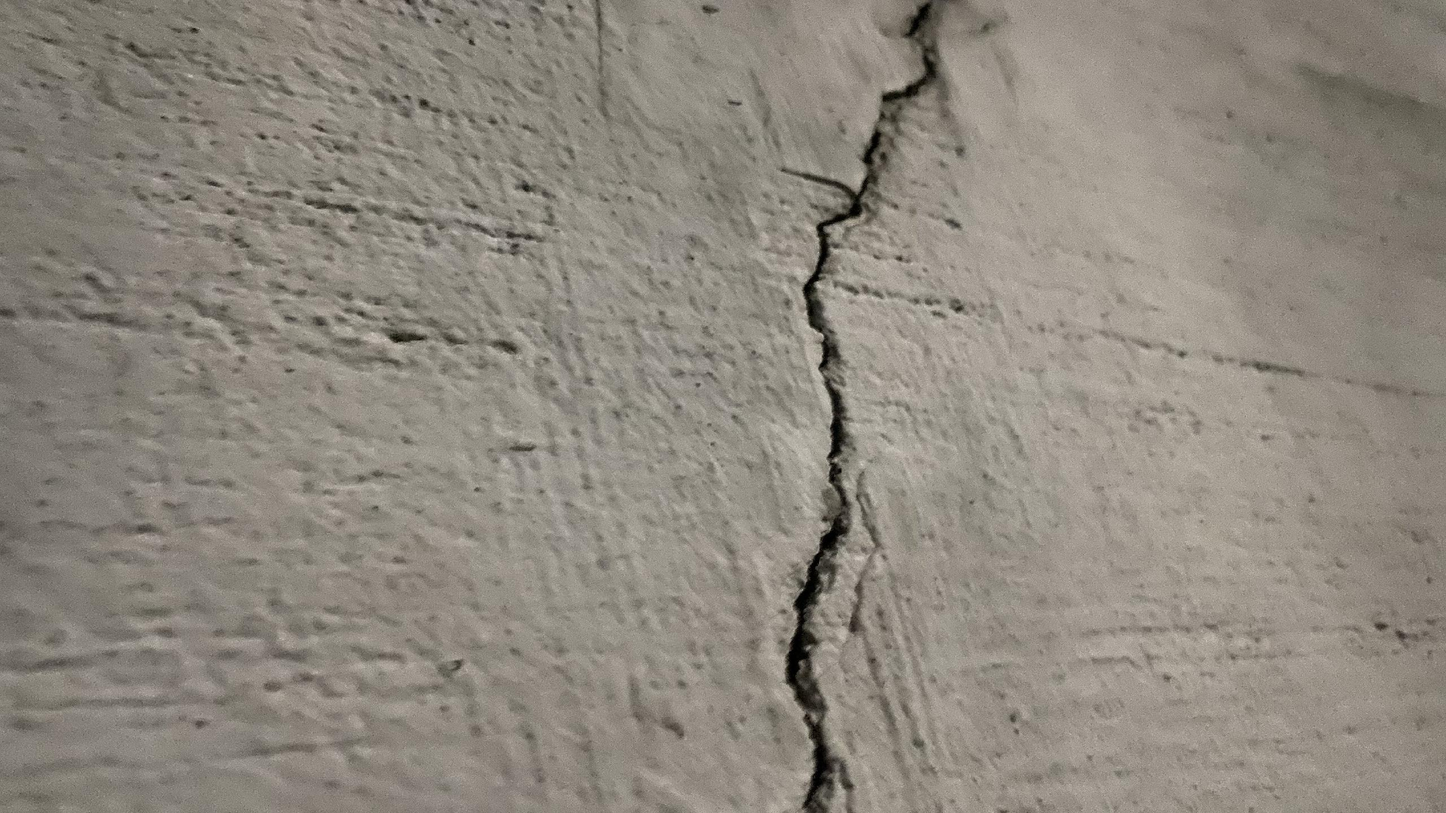crack: (784, 0, 934, 808)
